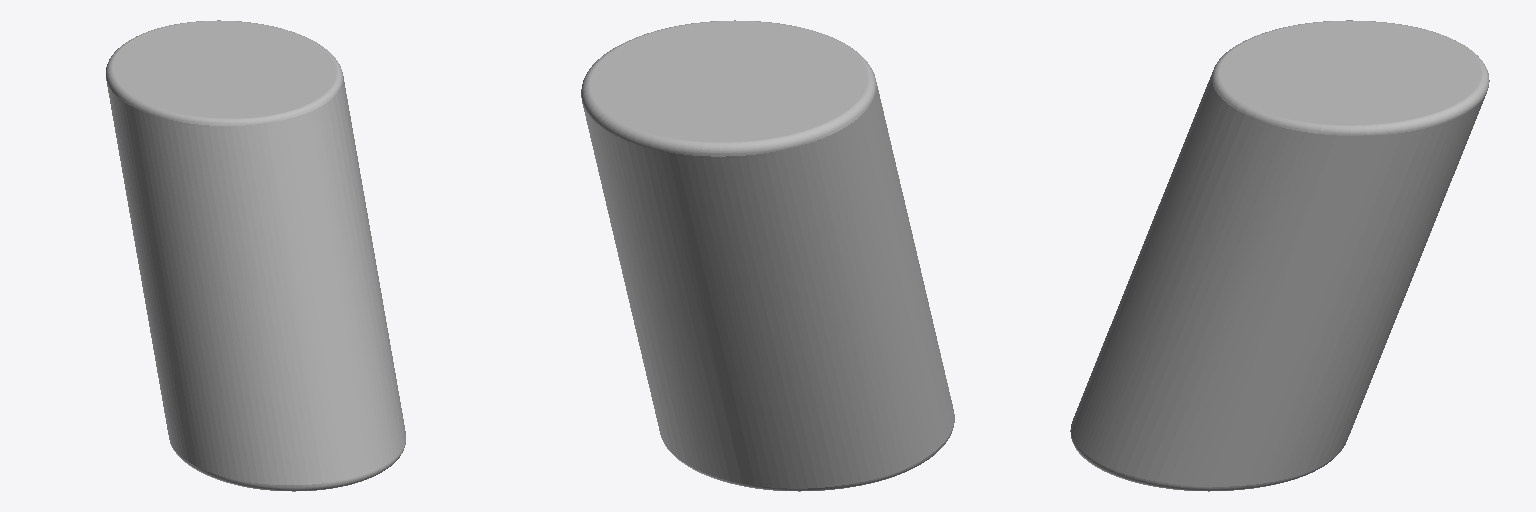
robot.urdf — root:
<robot name="root">
  <link name="link_cylinder_parallogram_convex_piece_0">
    <inertial>
      <origin xyz="0 0 0" rpy="0 0 0"/>
      <mass value="2.01E-01"/>
      <inertia ixx="2.04E-04" ixy="-7.59E-13" ixz="-1.39E-13" iyy="1.80E-04" iyz="-4.97E-05" izz="1.11E-04"/>
    </inertial>
    <visual>
      <origin xyz="0 0 0" rpy="0 0 0"/>
      <geometry>
        <mesh filename="cylinder_parallogram_convex_piece_0.obj" scale="1.0000E+00 1.0000E+00 1.0000E+00"/>
      </geometry>
      <material name="">
        <color rgba="7.50E-01 7.50E-01 7.50E-01 1"/>
      </material>
    </visual>
    <collision>
      <origin xyz="0 0 0" rpy="0 0 0"/>
      <geometry>
        <mesh filename="cylinder_parallogram_convex_piece_0.obj" scale="1.0000E+00 1.0000E+00 1.0000E+00"/>
      </geometry>
    </collision>
  </link>
</robot>

--- Render facts (derived) ---
Views: 3 orthographic renders of the robot side by side, from view 1: azimuth 30°, elevation 25°; view 2: azimuth 150°, elevation 25°; view 3: azimuth 270°, elevation 25°.
Model root with 1 links and 0 joints (none), rooted at link_cylinder_parallogram_convex_piece_0, posed all joints at 0.
Visible links, largest first — view 1: link_cylinder_parallogram_convex_piece_0; view 2: link_cylinder_parallogram_convex_piece_0; view 3: link_cylinder_parallogram_convex_piece_0.
Boxes of the visible links, box(x1,y1,x2,y2) form: link_cylinder_parallogram_convex_piece_0: box(106, 20, 405, 491); link_cylinder_parallogram_convex_piece_0: box(581, 20, 954, 491); link_cylinder_parallogram_convex_piece_0: box(1070, 20, 1489, 491).
Bounding box of the posed robot: 0.0588 × 0.094 × 0.0905 m (x, y, z).
Meshes: 1 distinct files referenced, 1 mesh visuals loaded (1 OBJ).
